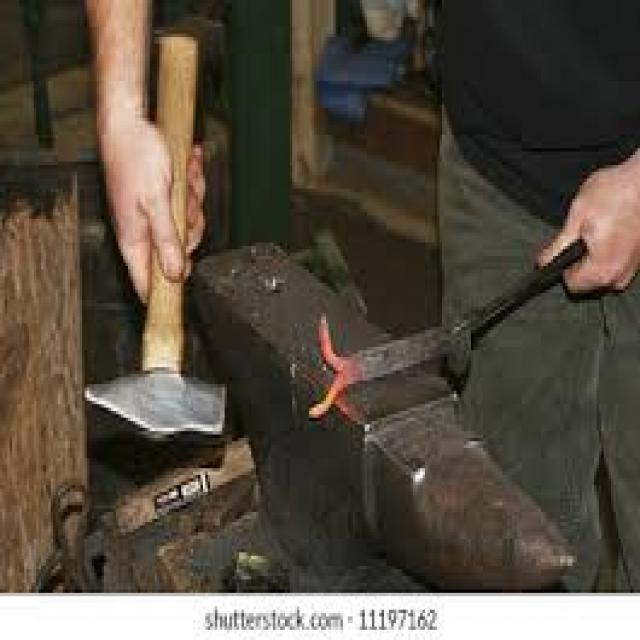hammer: (78, 24, 230, 478)
